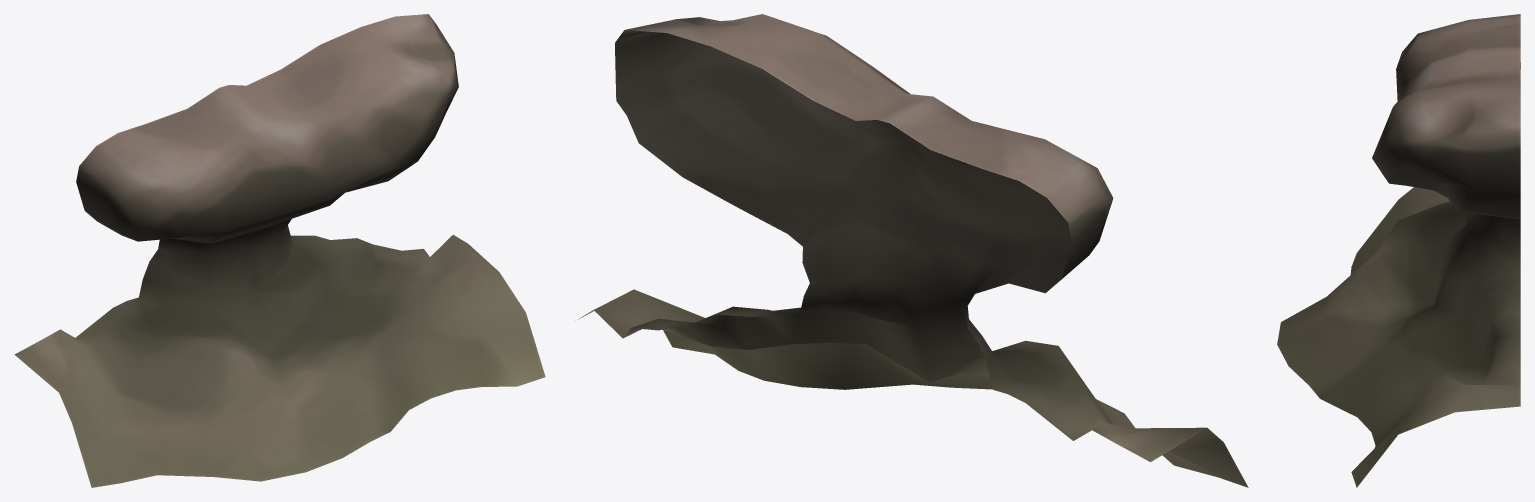
The model's file is Border_Rock_4.FBX.
3 views of the same model, side by side, from view 1: azimuth 30°, elevation 25°; view 2: azimuth 150°, elevation 25°; view 3: azimuth 270°, elevation 25° (orthographic). The views are drawn at different scales.
Visible parts, largest first — view 1: Border_Rock_4; view 2: Border_Rock_4; view 3: Border_Rock_4.
Boxes of the visible parts, box(x1,y1,x2,y2) form: Border_Rock_4: box(14, 14, 545, 487); Border_Rock_4: box(578, 14, 1248, 487); Border_Rock_4: box(1277, 14, 1520, 487).
Bounding box in the file's own units: 800 × 542 × 351.
